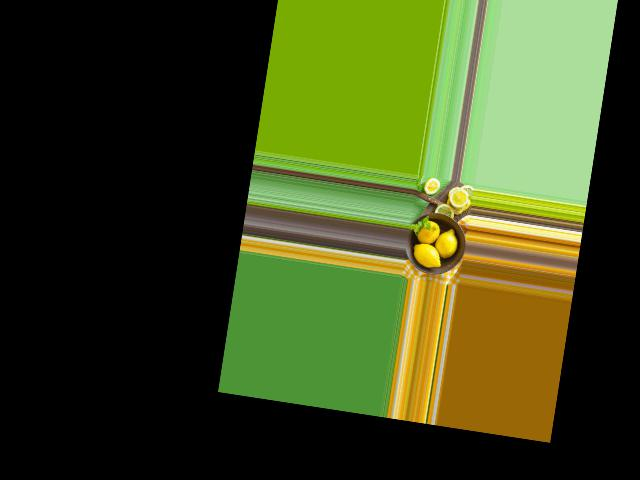lemon: (407, 238, 445, 273)
